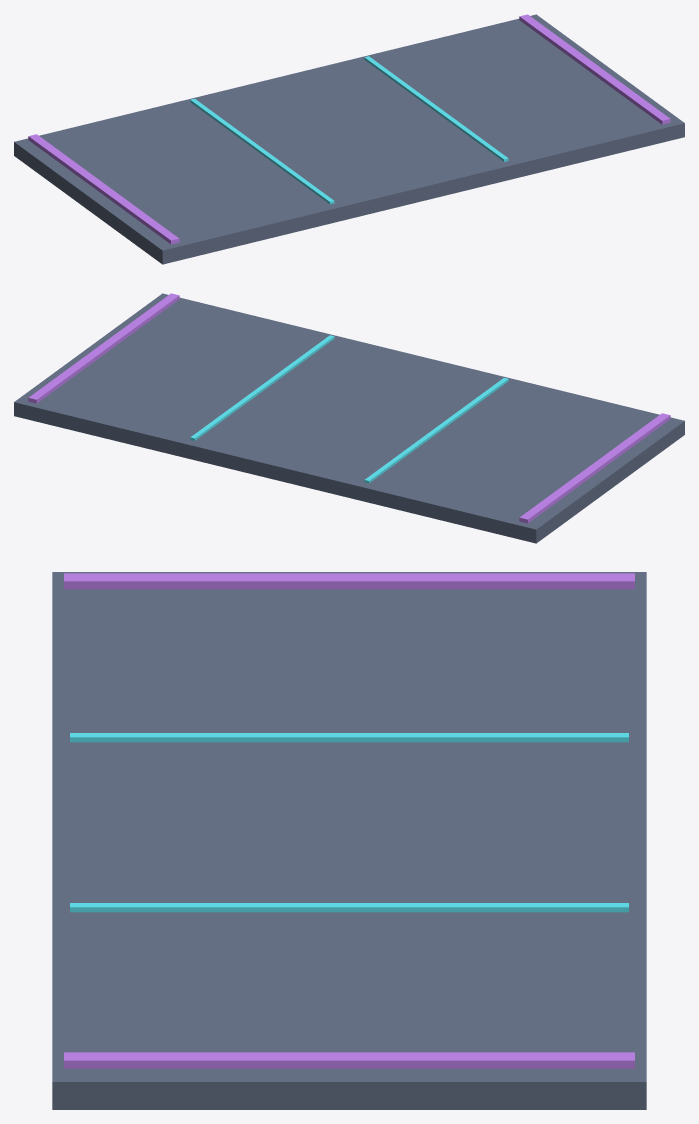
File: track_skating_3lane.glb
3 renders of one model, top to bottom at view 1: azimuth 30°, elevation 25°; view 2: azimuth 150°, elevation 25°; view 3: azimuth 270°, elevation 25°, orthographic. The views are drawn at different scales.
Parts seen in each view (by area): view 1: track_skating_3lane; view 2: track_skating_3lane; view 3: track_skating_3lane.
Part boxes in pixels (<box>): track_skating_3lane: <box>14,14,684,264</box>; track_skating_3lane: <box>14,293,684,543</box>; track_skating_3lane: <box>52,572,646,1109</box>.
Bounding box in the file's own units: 6.25 × 0.2175 × 3.08.
